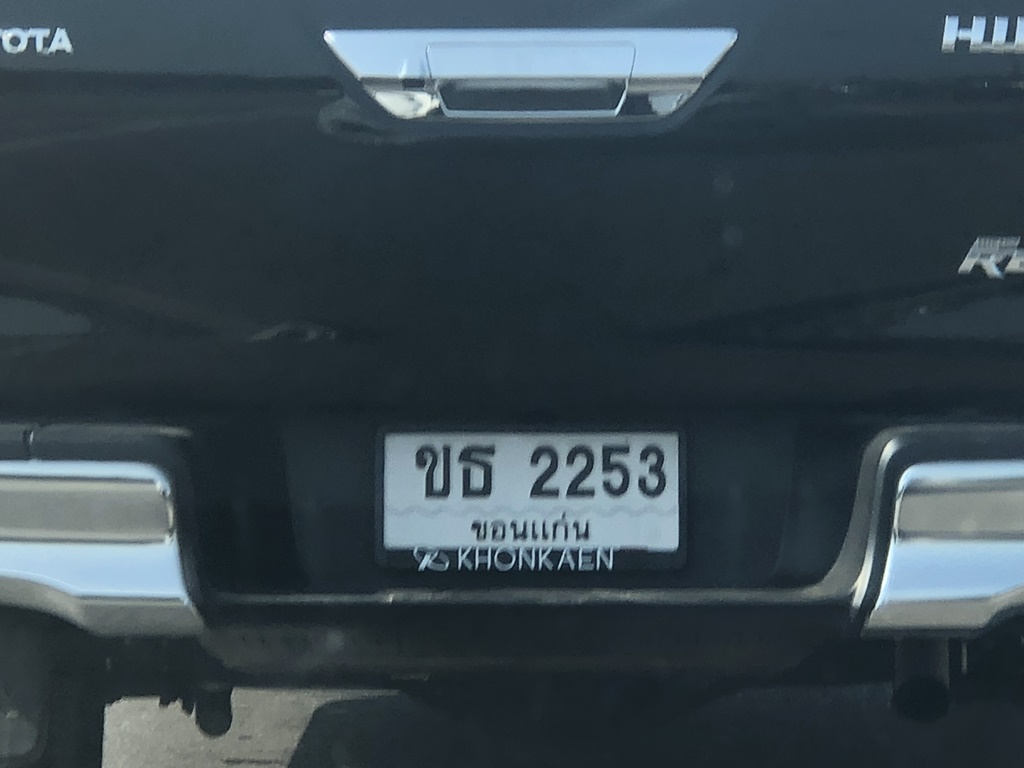five: (597, 437, 635, 510)
three: (632, 435, 670, 504)
two: (547, 433, 604, 507), (513, 437, 561, 510)
